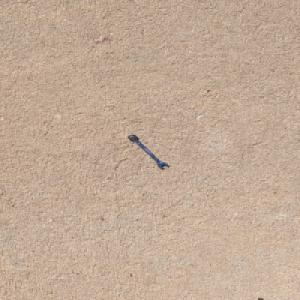Wrench: (126, 133, 169, 168)
